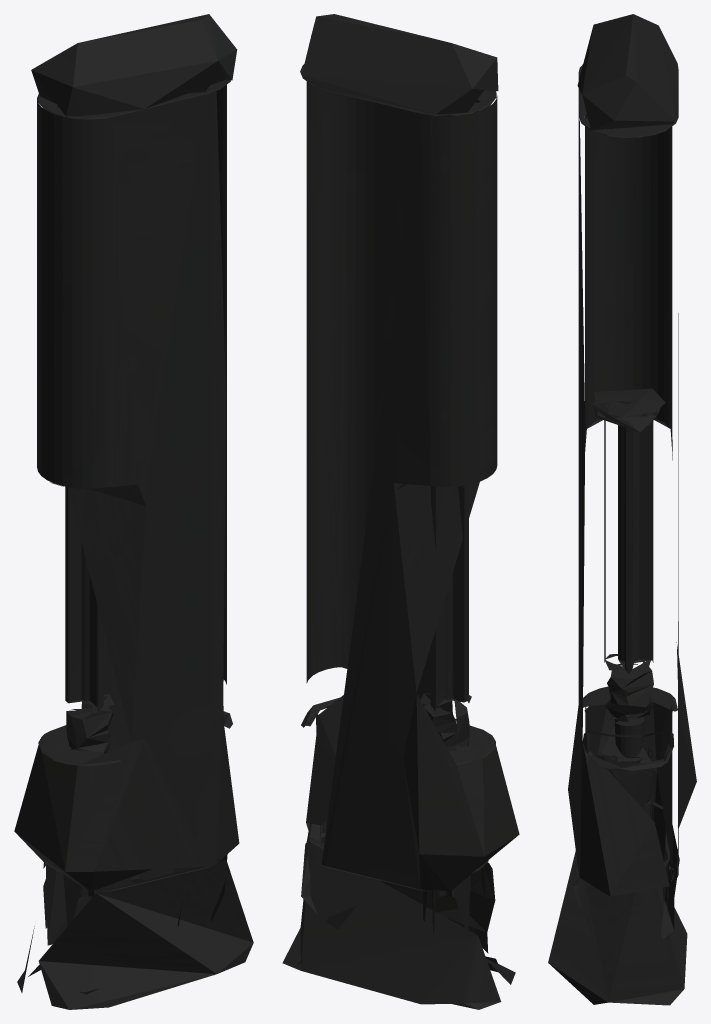
The model's file is medicine_c02.glb.
3 renders of one model, left to right at view 1: azimuth 30°, elevation 25°; view 2: azimuth 150°, elevation 25°; view 3: azimuth 270°, elevation 25°, orthographic. The views are drawn at different scales.
Visible parts, largest first — view 1: geometry_0; view 2: geometry_0; view 3: geometry_0.
Part boxes in pixels (left/top/right/bottom): geometry_0: left=14, top=14, right=253, bottom=1009; geometry_0: left=282, top=14, right=519, bottom=1009; geometry_0: left=548, top=14, right=696, bottom=1005.
Size of the model in its own units: 0.1009 by 0.42 by 0.0615.
Materials: 1 (1 with a texture image).
